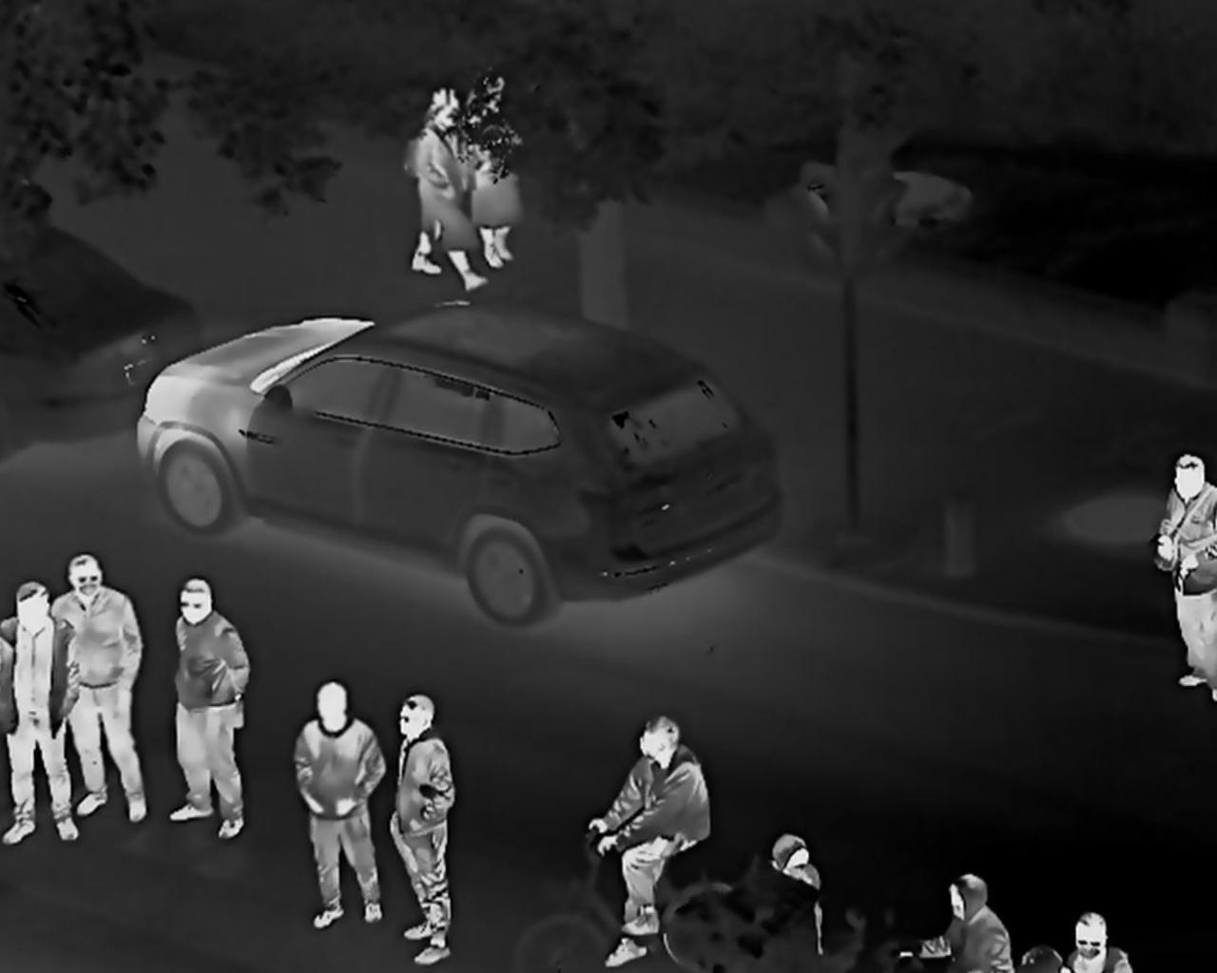person: (157, 563, 284, 862), (379, 680, 478, 973), (615, 710, 718, 973), (58, 525, 138, 820), (299, 662, 375, 962), (1149, 453, 1217, 686), (10, 561, 56, 865), (416, 95, 480, 296), (930, 880, 1020, 973), (761, 831, 855, 920), (487, 86, 523, 265), (1042, 907, 1115, 973)
